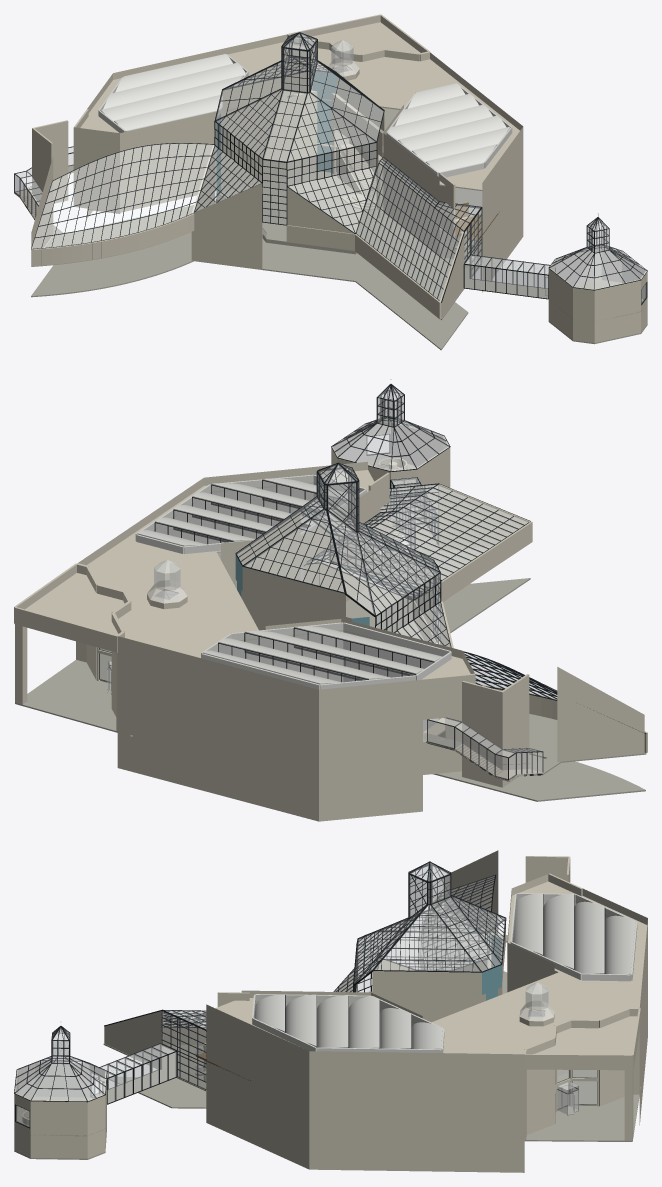
The model's file is MUDAM_R26_DOGU_CATI_BAGLANTI_v001_preview.glb.
3 renders of one model, top to bottom at view 1: azimuth 30°, elevation 25°; view 2: azimuth 150°, elevation 25°; view 3: azimuth 270°, elevation 25°, orthographic. The views are drawn at different scales.
Visible parts, largest first — view 1: P05_ZONE_LM1_GALLERIES_FOYER, P05_MAIN_ROOF_DECK, P05_GALLERY_HALL_WEST1, P05_MAIN_ATRIUM_BASE_3, R07_STAIRWELL_STONE_NORTH, P05_FRONT_0, P05_FLOOR_L00_GH, P05_GALLERY_HALL_EAST1, P05_GALLERY_HALL_WEST2, P05_FLOOR_L00_EAST_GARDEN, R17_WALL_0, P05_FLOOR_L00_WEST_CAFE (+34 smaller); view 2: P05_FRONT_9, P05_FRONT_10, P05_MAIN_ROOF_DECK, P05_ZONE_LM1_GALLERIES_FOYER, P05_WEST_END, P07_CANOPY_PAVING_DISPLAY, R14_INNER_WALL_B, P05_GALLERY_HALL_EAST1, R11_STONE_END, P07_CANOPY_SLAB_ENVELOPE, P05_FLOOR_L00_EAST_GARDEN, P06_HIGH_EAVE_UPSTAND_3 (+32 smaller); view 3: P05_FRONT_1, P05_FRONT_0, P05_MAIN_ROOF_DECK, R17_WALL_6, P07_CANOPY_PAVING_DISPLAY, P06_HIGH_EAVE_UPSTAND_5, P07_CANOPY_SLAB_ENVELOPE, P05_WEST_END, R24_SHELL_W_02, R11_STONE_END, R24_SHELL_W_01, P07_ENTRY_RETURN_1 (+29 smaller).
Part boxes in pixels (bbox=[...]): P05_ZONE_LM1_GALLERIES_FOYER: bbox=[31, 232, 468, 350]; P05_MAIN_ROOF_DECK: bbox=[75, 42, 522, 190]; P05_GALLERY_HALL_WEST1: bbox=[120, 110, 224, 212]; P05_MAIN_ATRIUM_BASE_3: bbox=[221, 91, 317, 191]; R07_STAIRWELL_STONE_NORTH: bbox=[191, 183, 262, 269]; P05_FRONT_0: bbox=[482, 127, 523, 292]; P05_FLOOR_L00_GH: bbox=[216, 172, 383, 251]; P05_GALLERY_HALL_EAST1: bbox=[383, 133, 439, 256]; P05_GALLERY_HALL_WEST2: bbox=[73, 127, 119, 212]; P05_FLOOR_L00_EAST_GARDEN: bbox=[357, 213, 482, 319]; R17_WALL_0: bbox=[594, 279, 640, 342]; P05_FLOOR_L00_WEST_CAFE: bbox=[31, 200, 215, 266]; P05_FRONT_9: bbox=[117, 636, 318, 821]; P05_FRONT_10: bbox=[319, 679, 422, 821]; P05_MAIN_ROOF_DECK: bbox=[87, 470, 475, 699]; P05_ZONE_LM1_GALLERIES_FOYER: bbox=[433, 578, 645, 801]; P05_WEST_END: bbox=[557, 667, 644, 761]; P07_CANOPY_PAVING_DISPLAY: bbox=[15, 660, 117, 732]; R14_INNER_WALL_B: bbox=[462, 681, 503, 787]; P05_GALLERY_HALL_EAST1: bbox=[303, 484, 379, 601]; R11_STONE_END: bbox=[439, 484, 530, 550]; P07_CANOPY_SLAB_ENVELOPE: bbox=[25, 573, 124, 635]; P05_FLOOR_L00_EAST_GARDEN: bbox=[346, 546, 492, 623]; P06_HIGH_EAVE_UPSTAND_3: bbox=[242, 567, 345, 618]; P05_FRONT_1: bbox=[309, 1051, 524, 1172]; P05_FRONT_0: bbox=[206, 1004, 309, 1169]; P05_MAIN_ROOF_DECK: bbox=[207, 881, 647, 1062]; R17_WALL_6: bbox=[30, 1100, 87, 1158]; P07_CANOPY_PAVING_DISPLAY: bbox=[524, 1094, 639, 1141]; P06_HIGH_EAVE_UPSTAND_5: bbox=[372, 971, 481, 994]; P07_CANOPY_SLAB_ENVELOPE: bbox=[535, 1016, 637, 1054]; P05_WEST_END: bbox=[444, 850, 498, 935]; R24_SHELL_W_02: bbox=[574, 901, 604, 973]; R11_STONE_END: bbox=[104, 1011, 163, 1069]; R24_SHELL_W_01: bbox=[543, 893, 573, 969]; P07_ENTRY_RETURN_1: bbox=[524, 1037, 554, 1134].
Bounding box in the file's own units: 80.45 × 35.94 × 93.32.
